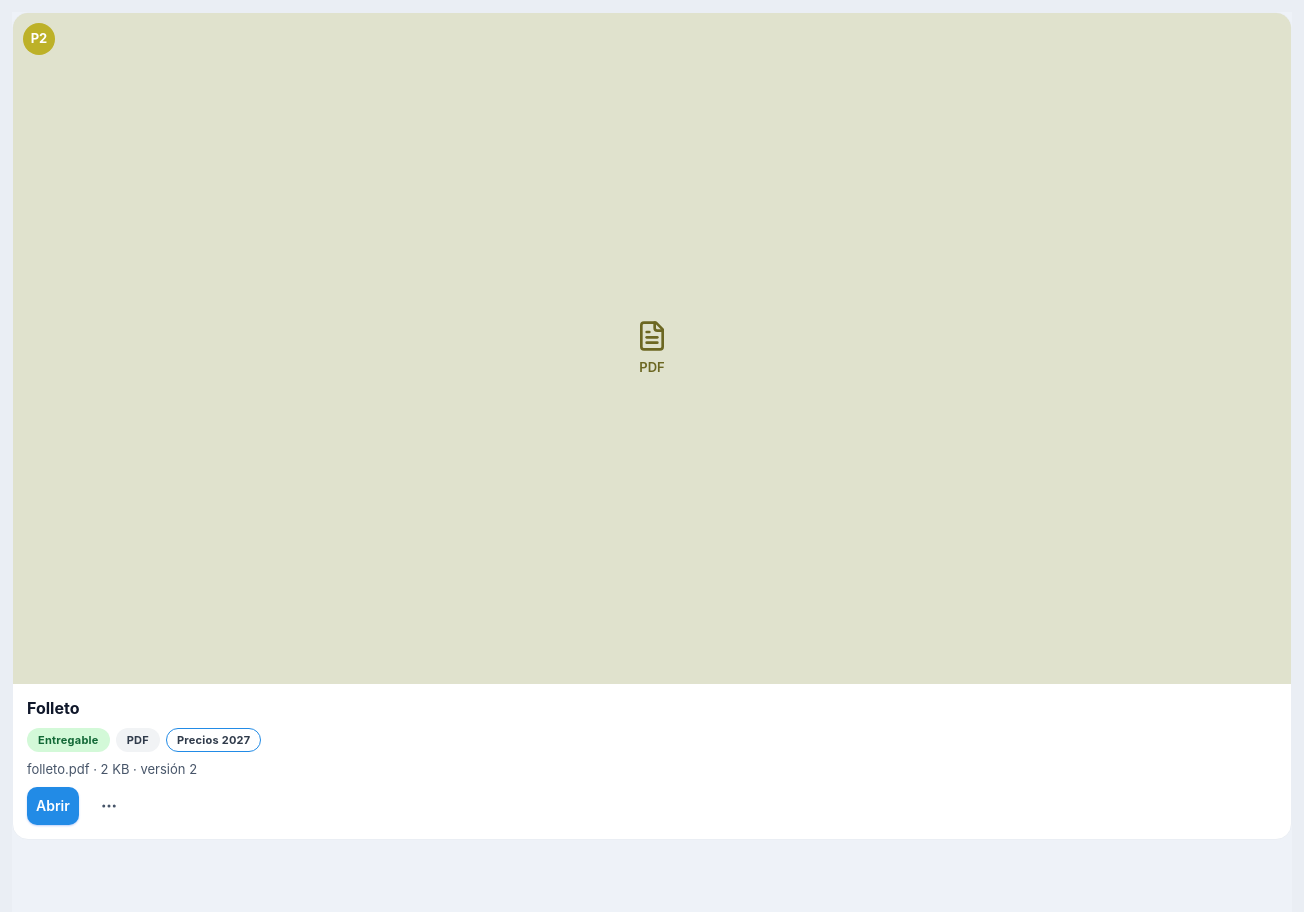
Test case: SalesMaterialCard › sellers get only Descargar, and no menu at all on a link
Click the button named "Más acciones de «Folleto»" at (109, 806), box [87, 787, 131, 825]
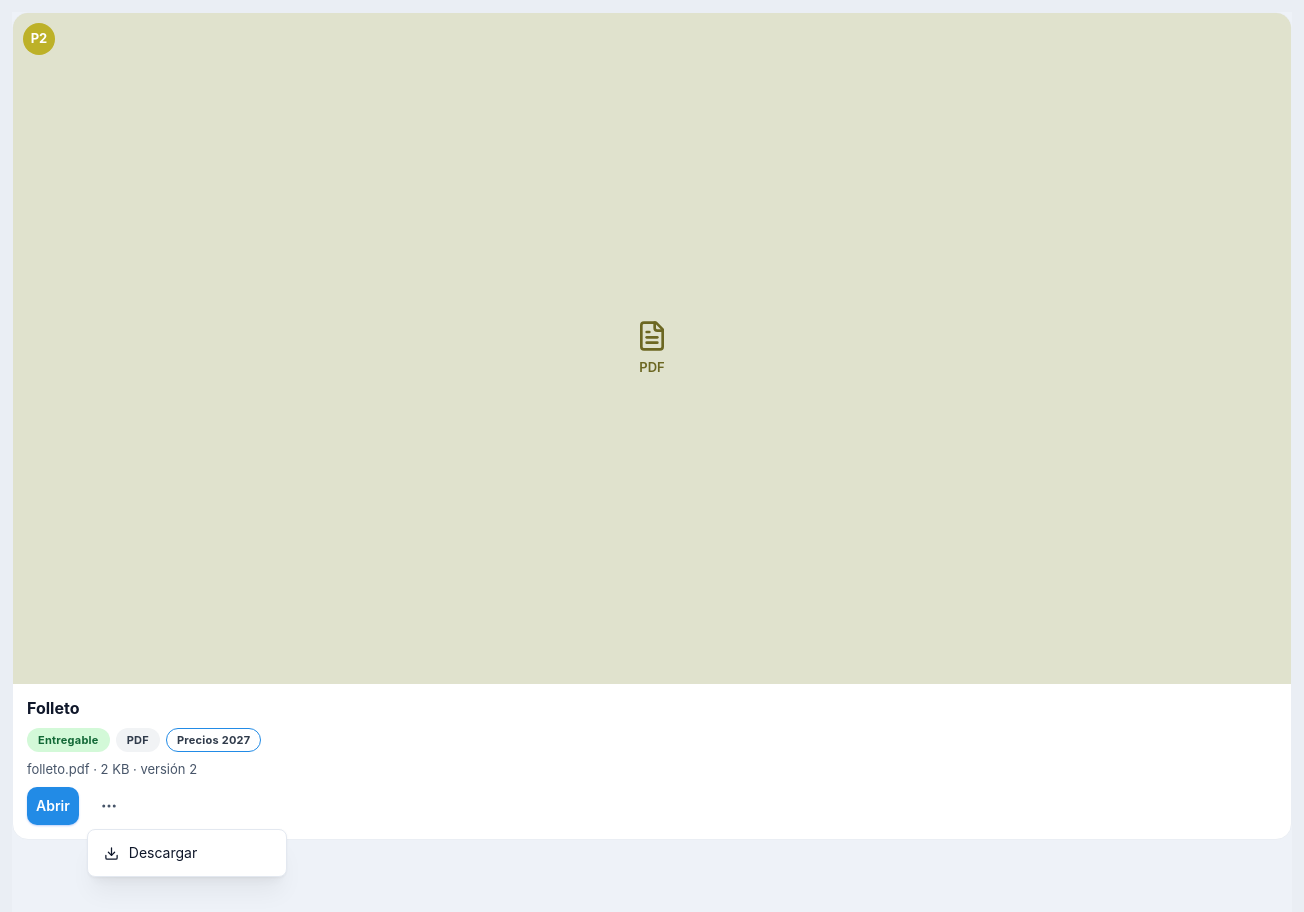
Expected: the menu items read "Descargar", in this order, [104, 844, 197, 861]
